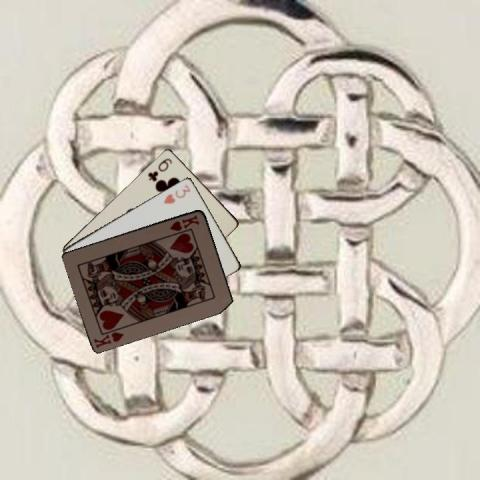3h: (161, 181, 192, 205)
6c: (145, 154, 173, 182)
Kh: (166, 212, 200, 232), (92, 329, 126, 349)
